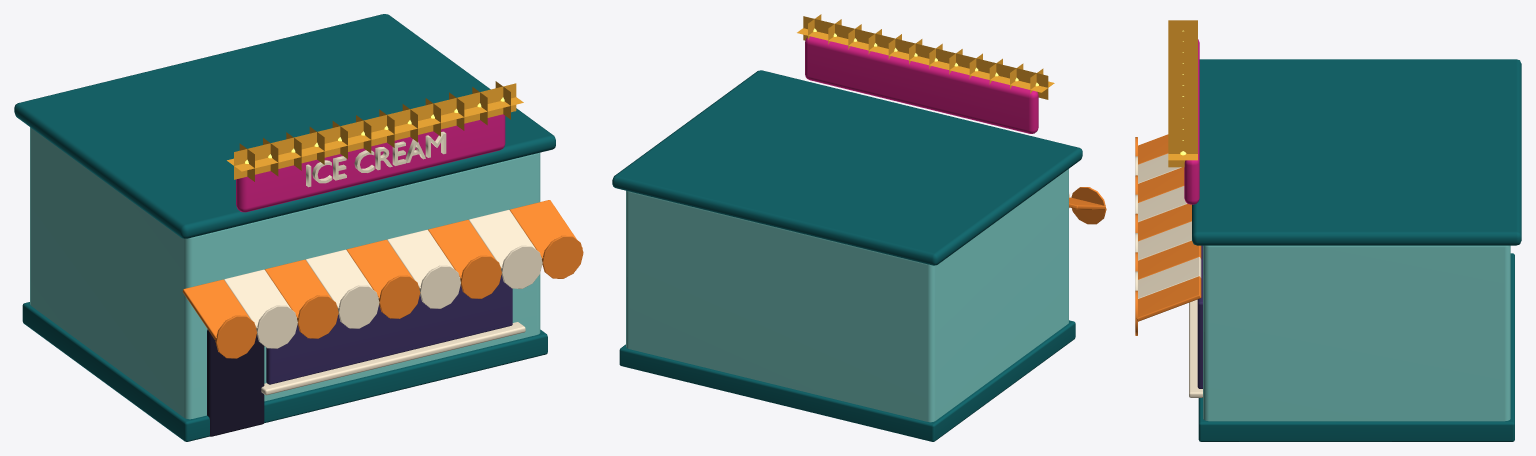
File: beach_shop_c.glb
3 renders of one model, left to right at view 1: azimuth 30°, elevation 25°; view 2: azimuth 150°, elevation 25°; view 3: azimuth 270°, elevation 25°, orthographic. The views are drawn at different scales.
Parts seen in each view (by area): view 1: Shop; view 2: Shop; view 3: Shop.
Part boxes in pixels (box(x1,y1,x2,y2)): Shop: box(14, 14, 583, 441); Shop: box(612, 14, 1106, 441); Shop: box(1135, 20, 1521, 441).
Size of the model in its own units: 9.5 by 6.96 by 8.79.
